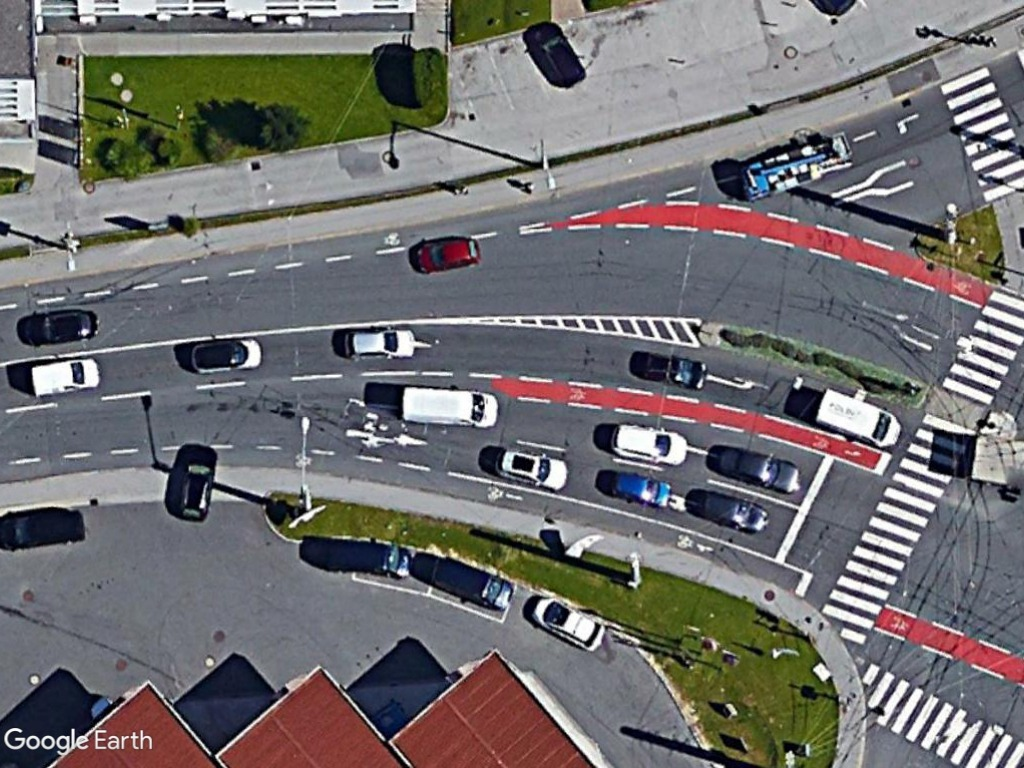car: (526, 591, 610, 656), (713, 440, 804, 498), (520, 17, 587, 92), (604, 418, 691, 472), (169, 441, 219, 526), (14, 302, 101, 350), (490, 443, 574, 492), (24, 352, 105, 401), (179, 331, 266, 376), (403, 231, 485, 276), (336, 324, 423, 363)
van: (809, 379, 907, 456), (394, 379, 504, 431)
